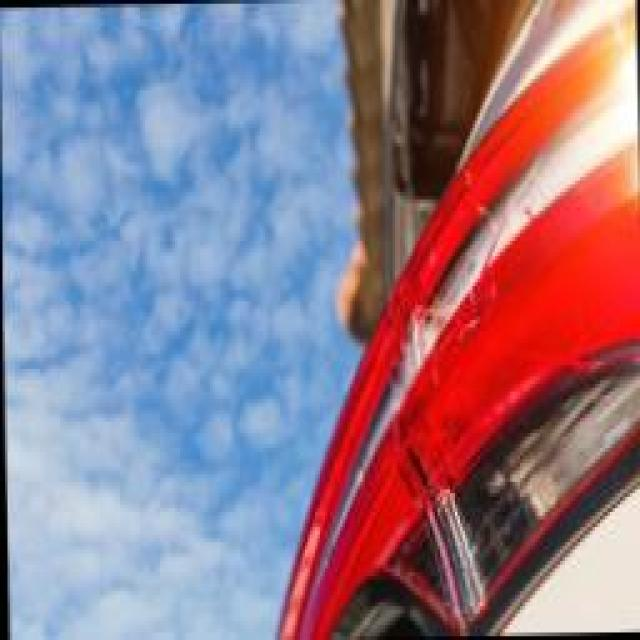Light: (368, 162, 598, 520)
